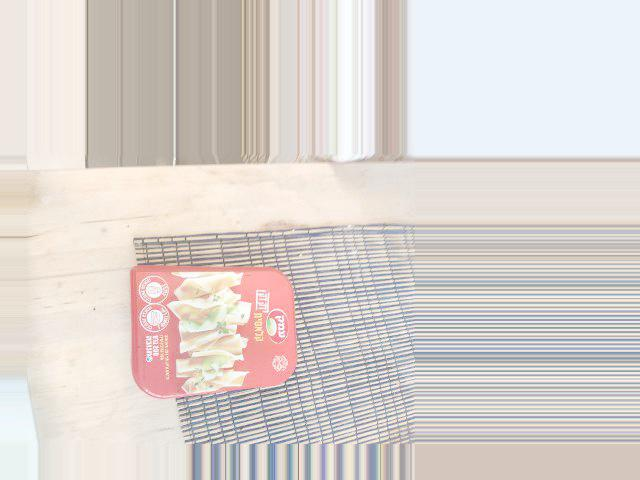cheese: (233, 264, 365, 438)
